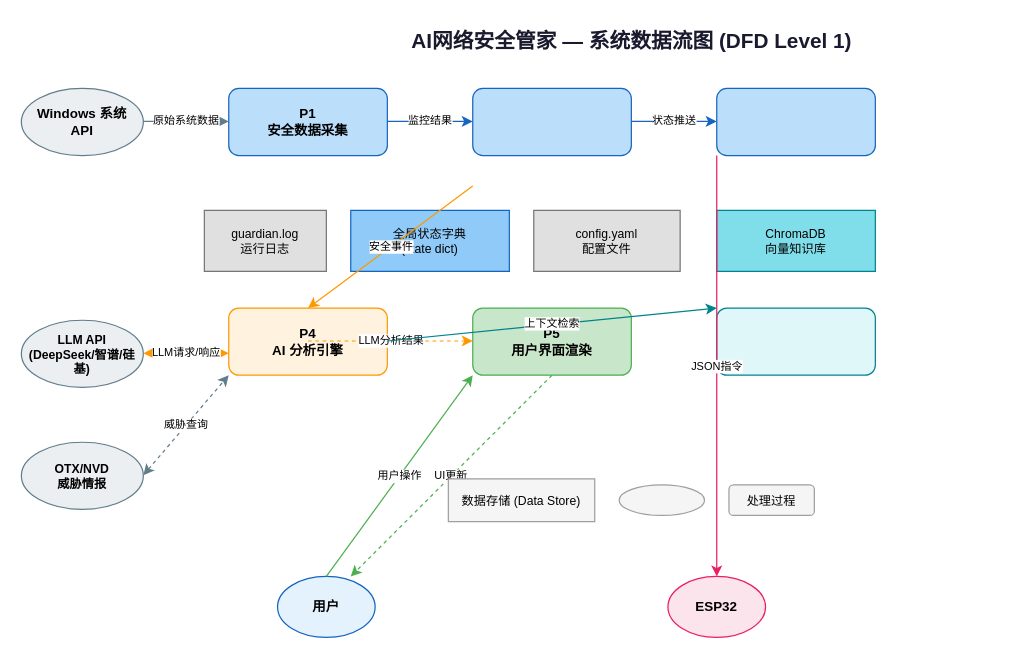
This 1019x659 diagram has some shape labels left out. The shapes that lost their labels are listed below. From the top down, each one's box as (x1, y1, x2, y2) in pixels, then its label:
(472, 87, 631, 156): P2 安全等级计算
(716, 87, 875, 156): P3 设备通信
(716, 307, 875, 375): P6 知识库管理
(618, 484, 705, 515): 外部实体
